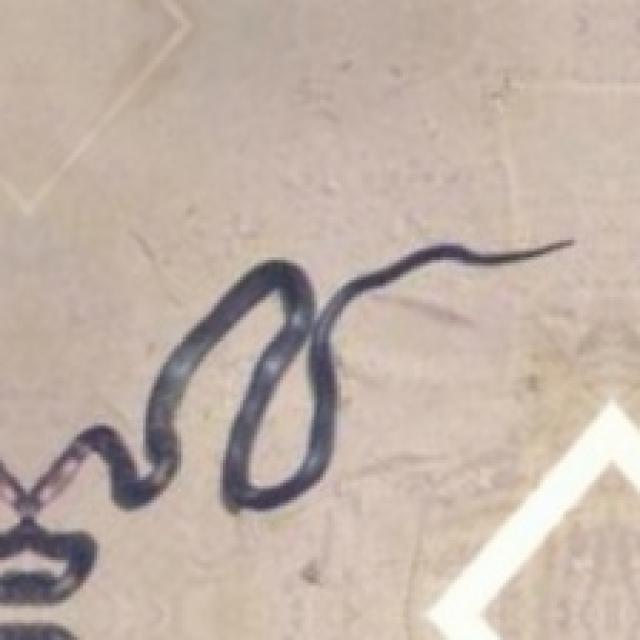king cobra: (0, 240, 571, 600)
